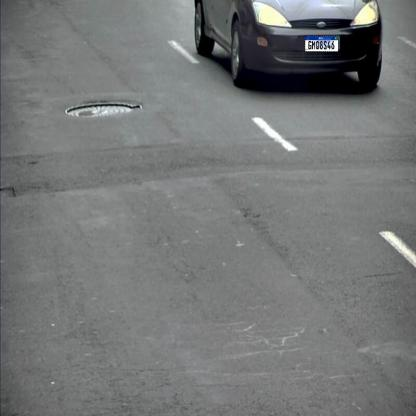PlacaM: (304, 35, 338, 52)
